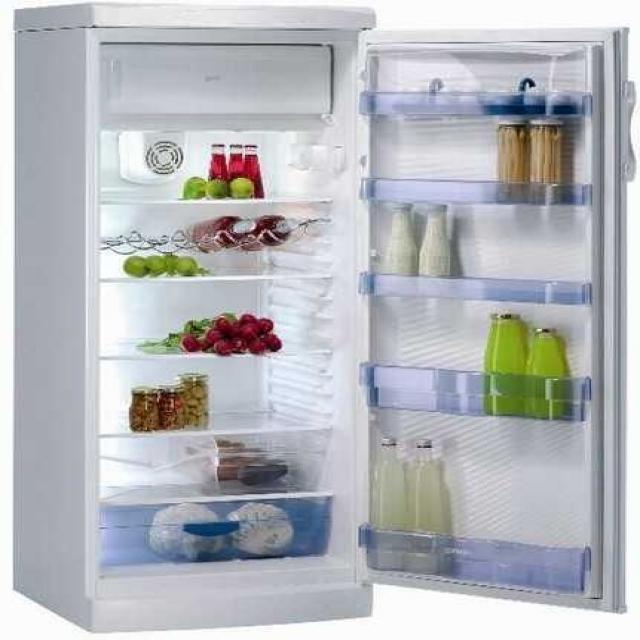refrigerator: (86, 3, 616, 606)
